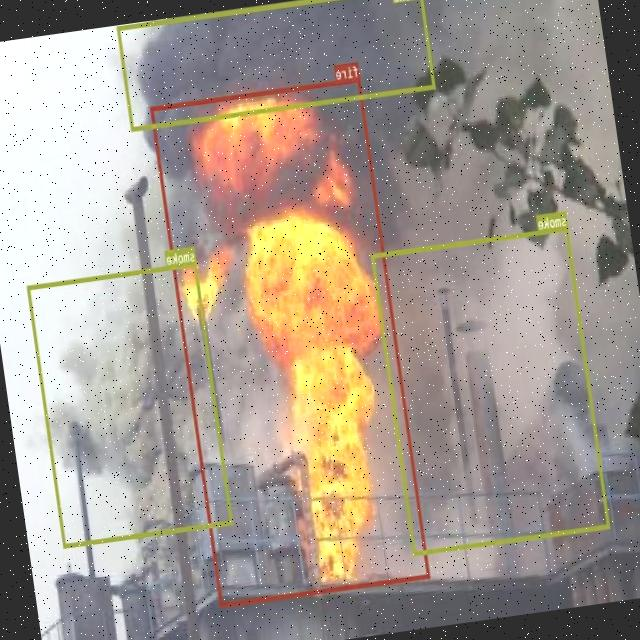fire: (150, 77, 430, 607)
smoke: (371, 225, 611, 556), (28, 261, 234, 548), (117, 0, 436, 131)
